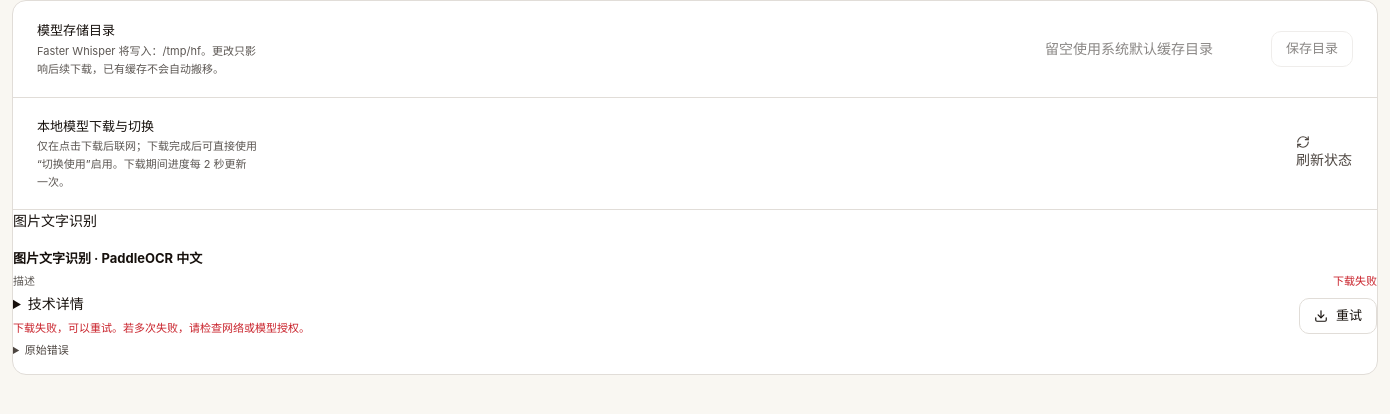
Test: LocalModelsPanel › 失败时主区显示可读摘要，原始技术错误默认折叠
Expected: the text "图片文字识别 · PaddleOCR 中文" is shown, [13, 250, 202, 266]
Expected: the text "下载失败，可以重试。若多次失败，请检查网络或模型授权。" is shown, [13, 321, 310, 335]
Click the heading "原始错误" at (47, 350), box [25, 343, 69, 357]
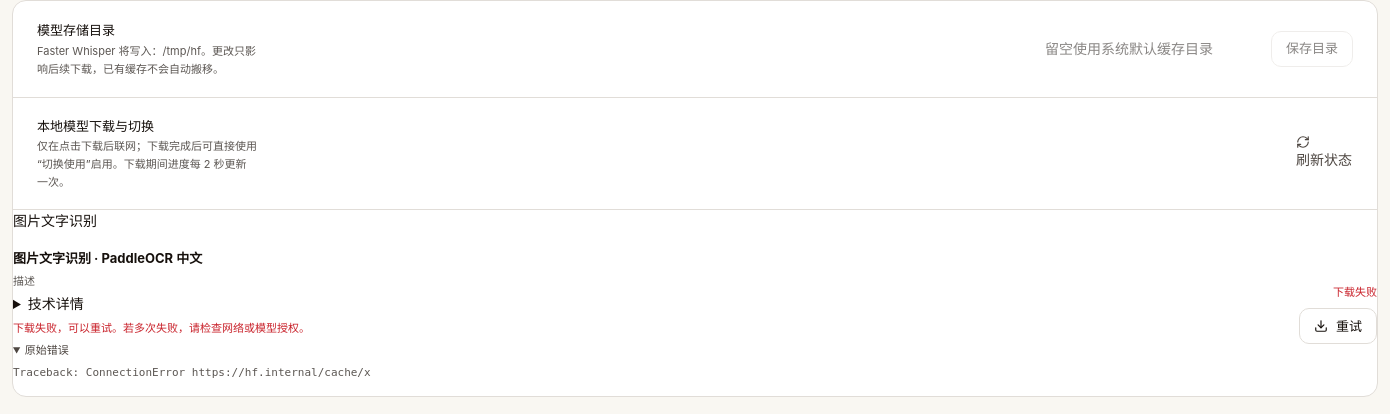
Expected: the text "Traceback: ConnectionError https://hf.internal/cache/x" is shown, [13, 366, 371, 379]
